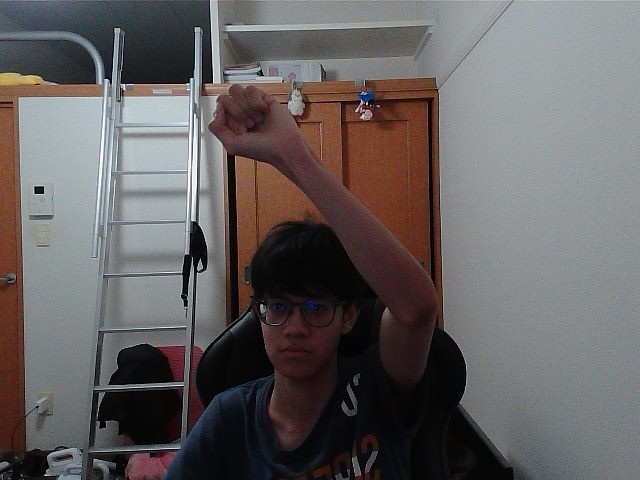closed_palm: (216, 89, 280, 151)
